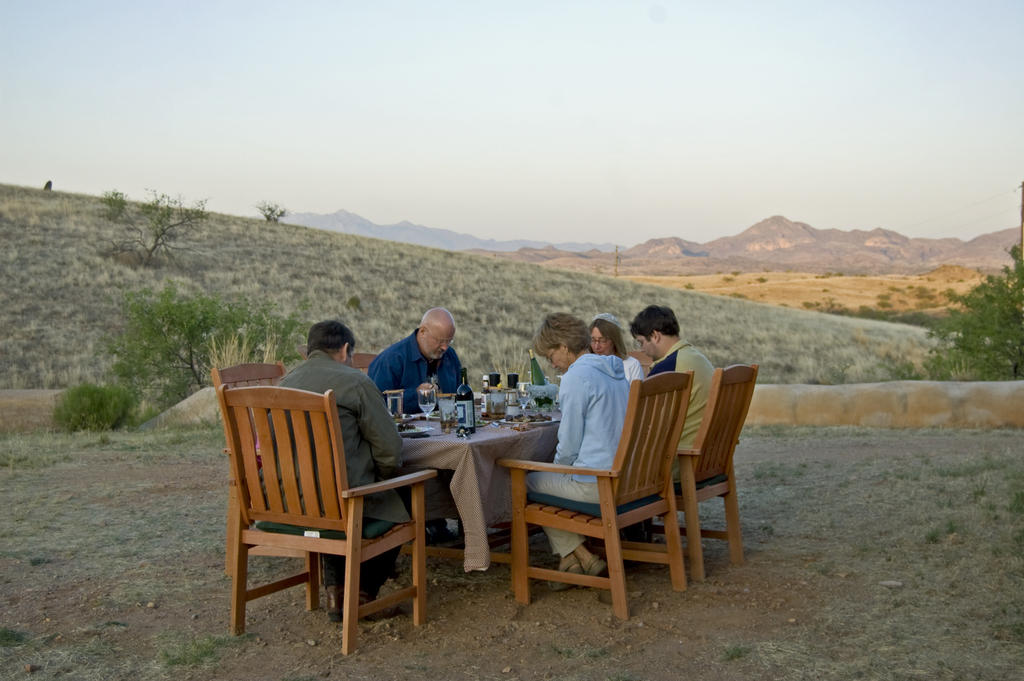Chair: (210, 381, 442, 650), (499, 369, 691, 619), (669, 361, 754, 580), (211, 359, 291, 579), (354, 352, 374, 380)
